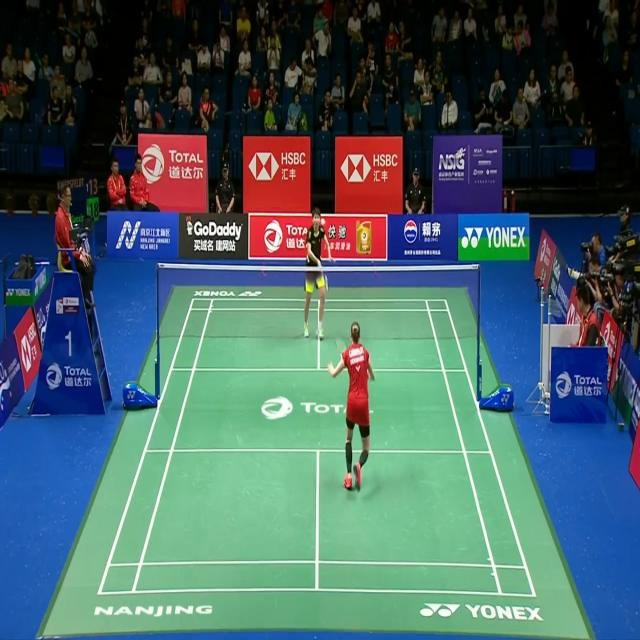Player1: (324, 314, 382, 504)
Player2: (299, 193, 334, 348)
